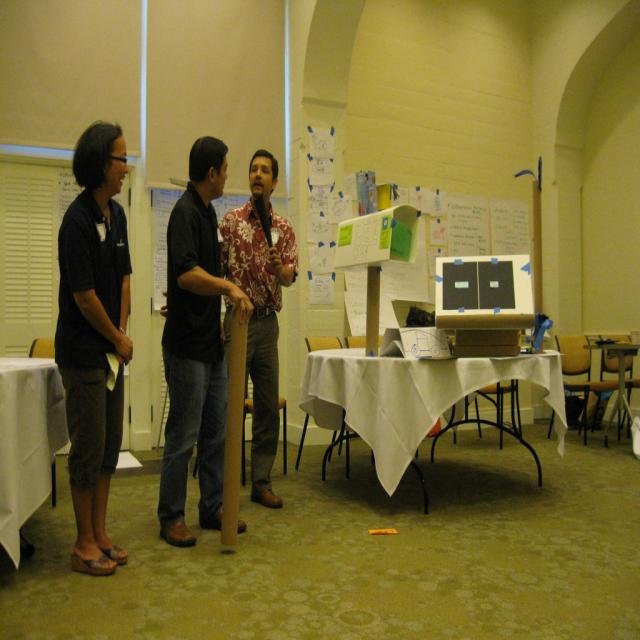chair: (295, 337, 350, 480), (590, 343, 640, 444), (554, 333, 594, 449), (241, 395, 288, 481), (305, 336, 343, 352), (28, 338, 55, 359)
desk: (309, 348, 562, 507)
person: (156, 136, 250, 549), (54, 122, 134, 576), (220, 144, 300, 518)
